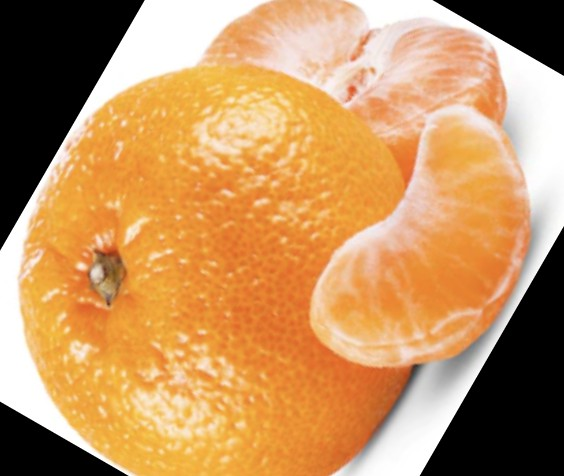fresh_orange: (20, 63, 423, 476)
